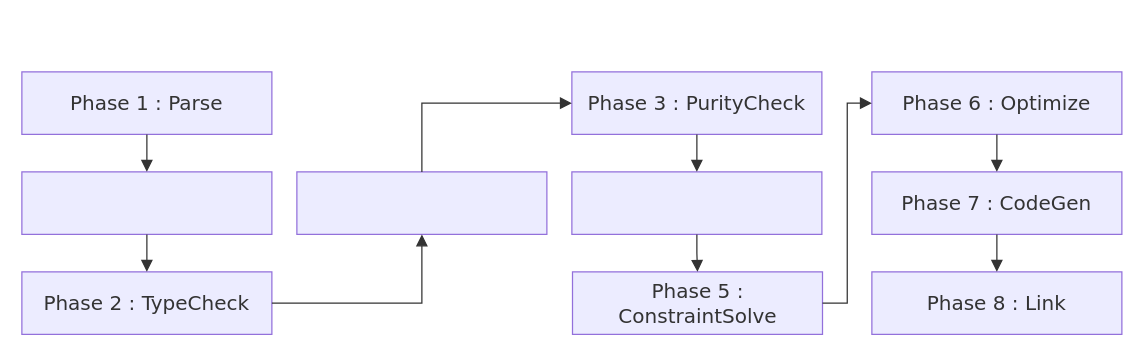
Image size: 1144x356. Some labels were removed from this diagram. The box of each missing label's shape, as (x1, y1, x2, y2) in pixels:
Phase 1.5 : ConfigAnalysis: (21, 171, 272, 234)
Phase 2.5 : Résolution: (296, 171, 547, 234)
Phase 4 : TermProof: (571, 171, 822, 234)
